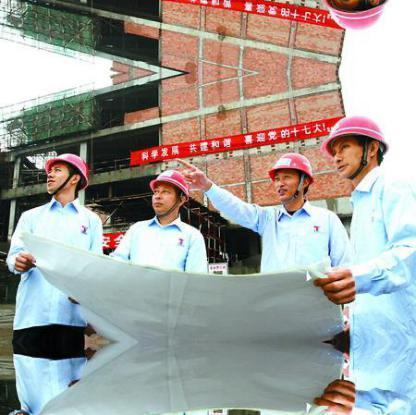helmet: (321, 114, 390, 158), (268, 148, 317, 184), (40, 153, 91, 187), (145, 165, 193, 201)
